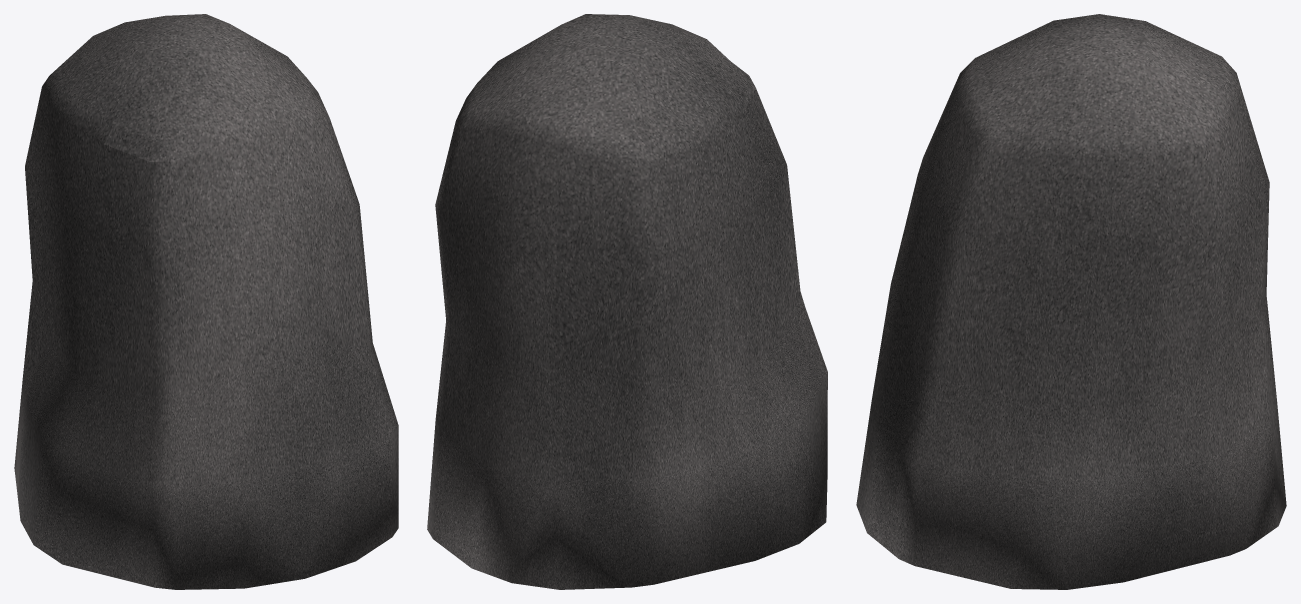
File: iwa04.fbx
3 renders of one model, left to right at view 1: azimuth 30°, elevation 25°; view 2: azimuth 150°, elevation 25°; view 3: azimuth 270°, elevation 25°, orthographic. The views are drawn at different scales.
Visible parts, largest first — view 1: iwa04; view 2: iwa04; view 3: iwa04.
Part boxes in pixels (x1,y1,x2,y2): iwa04: (14, 14, 398, 589); iwa04: (427, 14, 827, 589); iwa04: (856, 14, 1286, 589).
Size of the model in its own units: 12.1 by 16.01 by 13.01.
